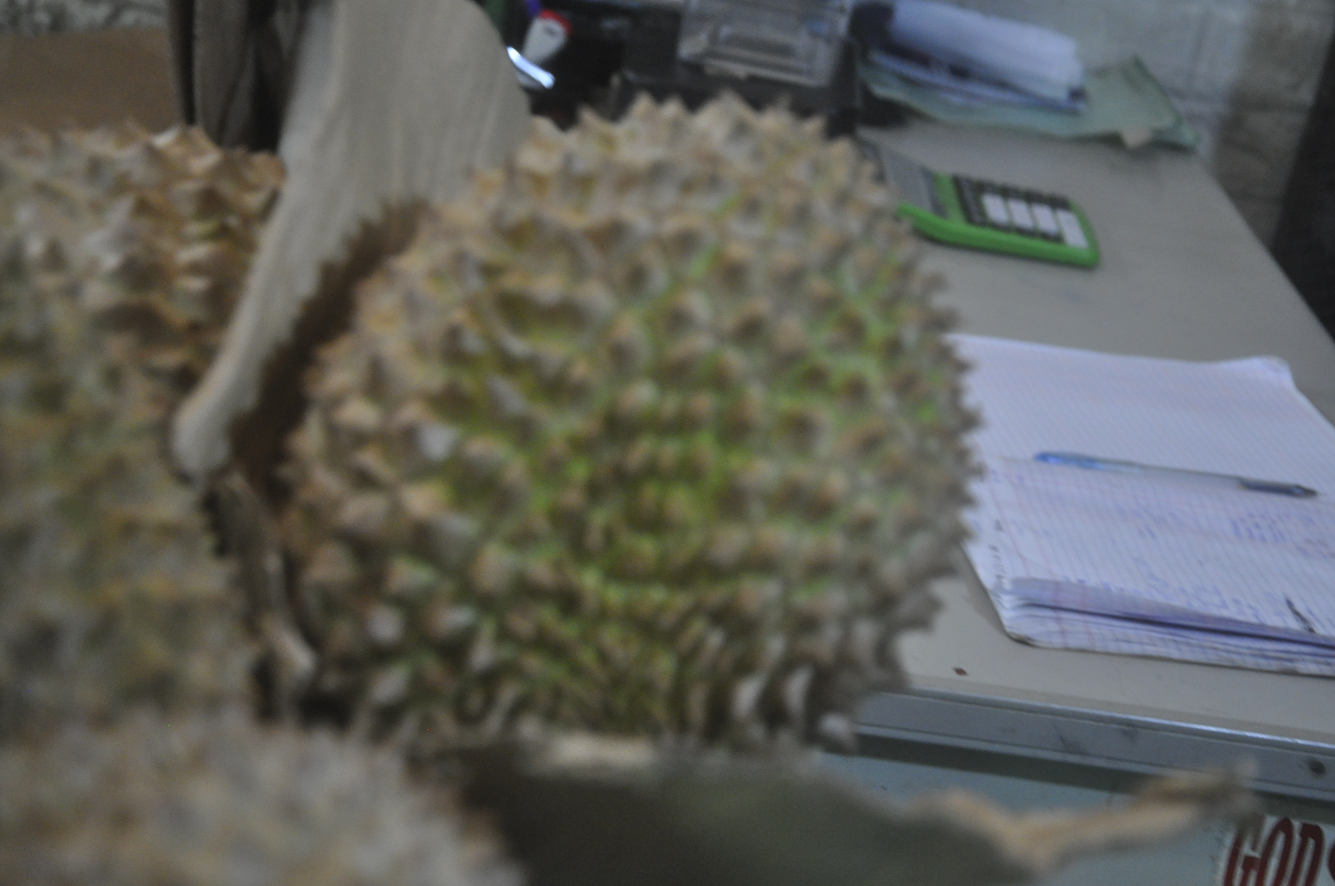mature: (280, 100, 974, 744)
